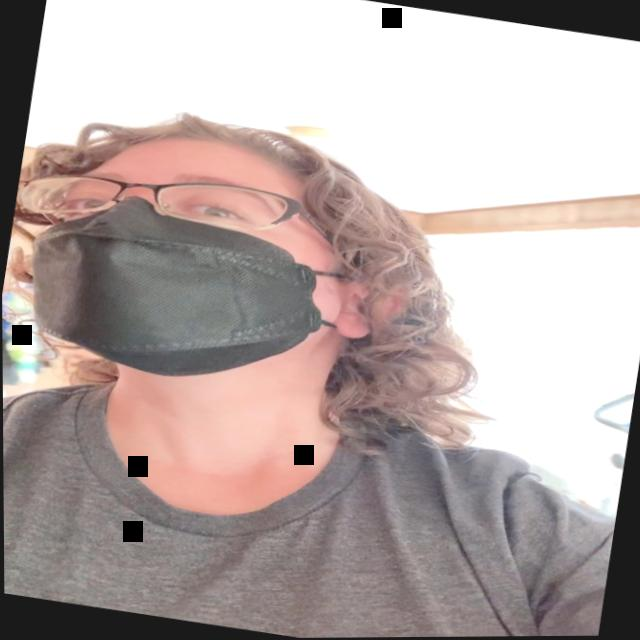Mask: (15, 118, 359, 402)
